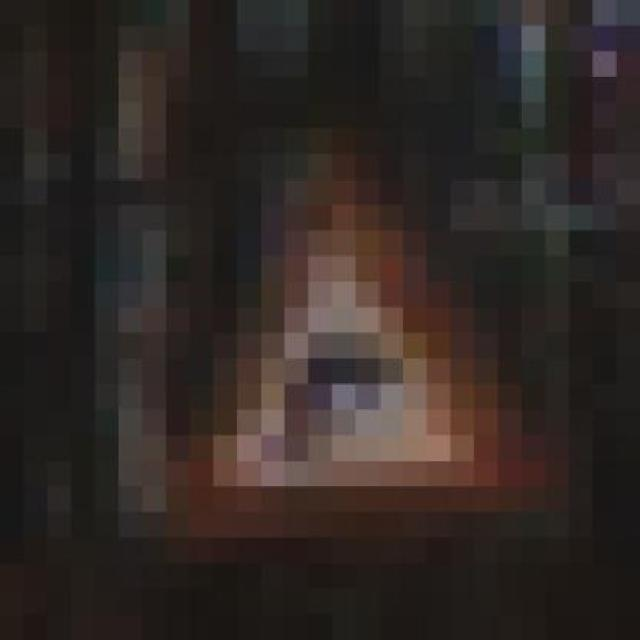Dangerous Rright Curve Ahead: (142, 128, 569, 538)
